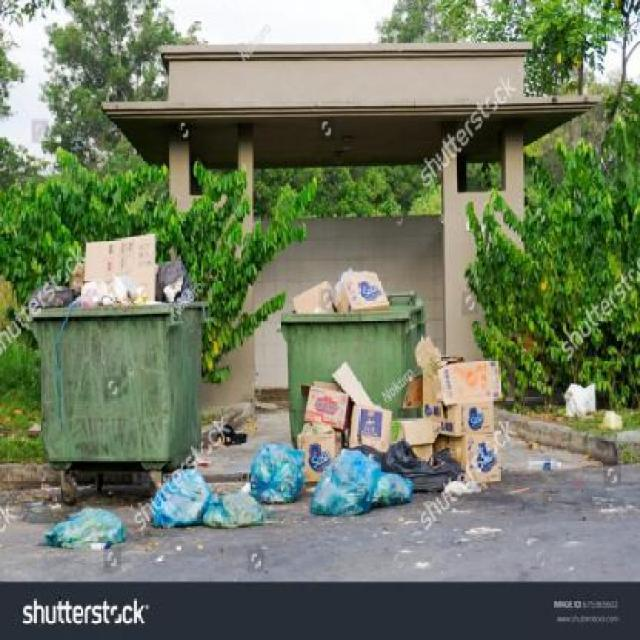garbage: (299, 357, 532, 494), (142, 438, 451, 520), (42, 225, 195, 324), (283, 258, 424, 314), (36, 499, 137, 568)
